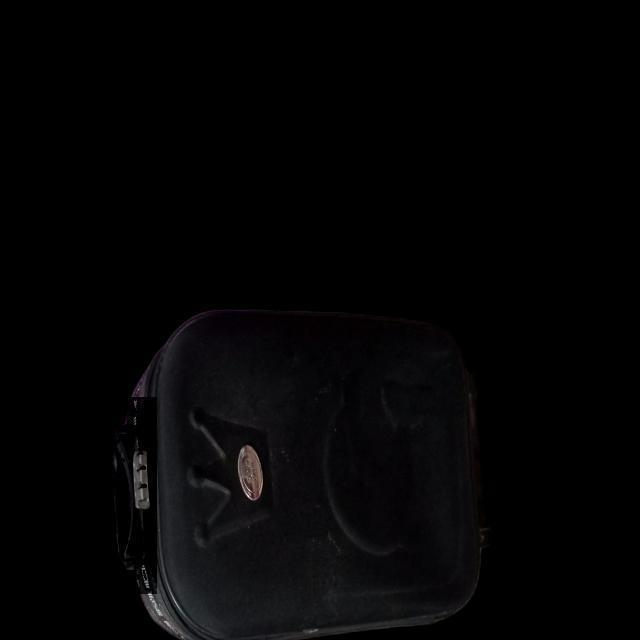Suitcase: (81, 284, 587, 640)
